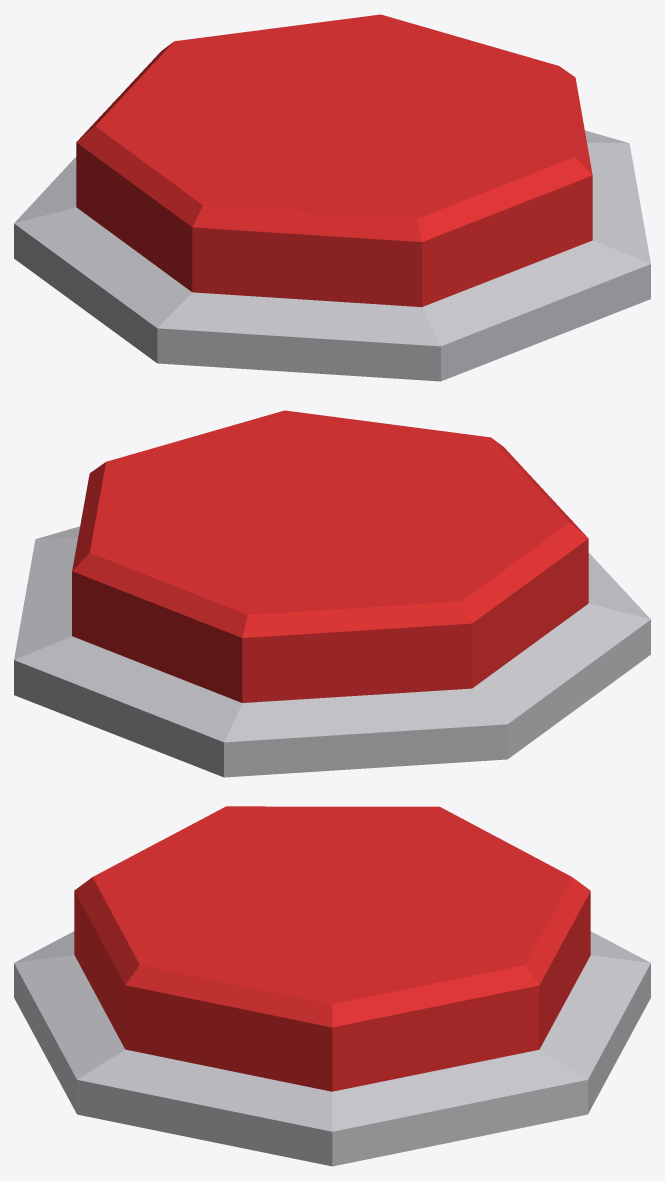
Rendered from button.fbx.
3 views of the same model, one above another, from view 1: azimuth 30°, elevation 25°; view 2: azimuth 150°, elevation 25°; view 3: azimuth 270°, elevation 25° (orthographic).
Visible parts, largest first — view 1: Button_Head, Button_base; view 2: Button_Head, Button_base; view 3: Button_Head, Button_base.
Boxes of the visible parts, x1,y1,x2,y2 form: Button_Head: (76, 14, 592, 306); Button_base: (14, 130, 650, 381); Button_Head: (72, 410, 588, 702); Button_base: (14, 526, 650, 777); Button_Head: (74, 806, 590, 1091); Button_base: (14, 931, 650, 1166).
Bounding box in the file's own units: 44.55 × 10.15 × 45.69.
